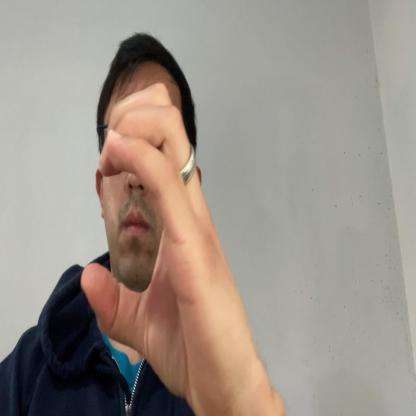C: (81, 80, 238, 404)
